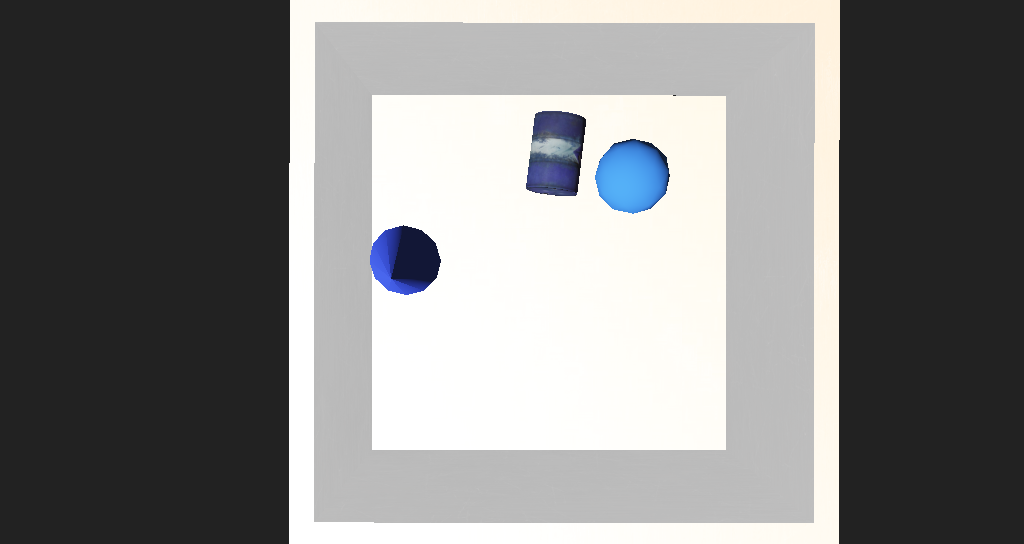cone: (485, 174, 539, 227)
cylinder: (340, 241, 414, 293)
sphere: (539, 186, 606, 234)
